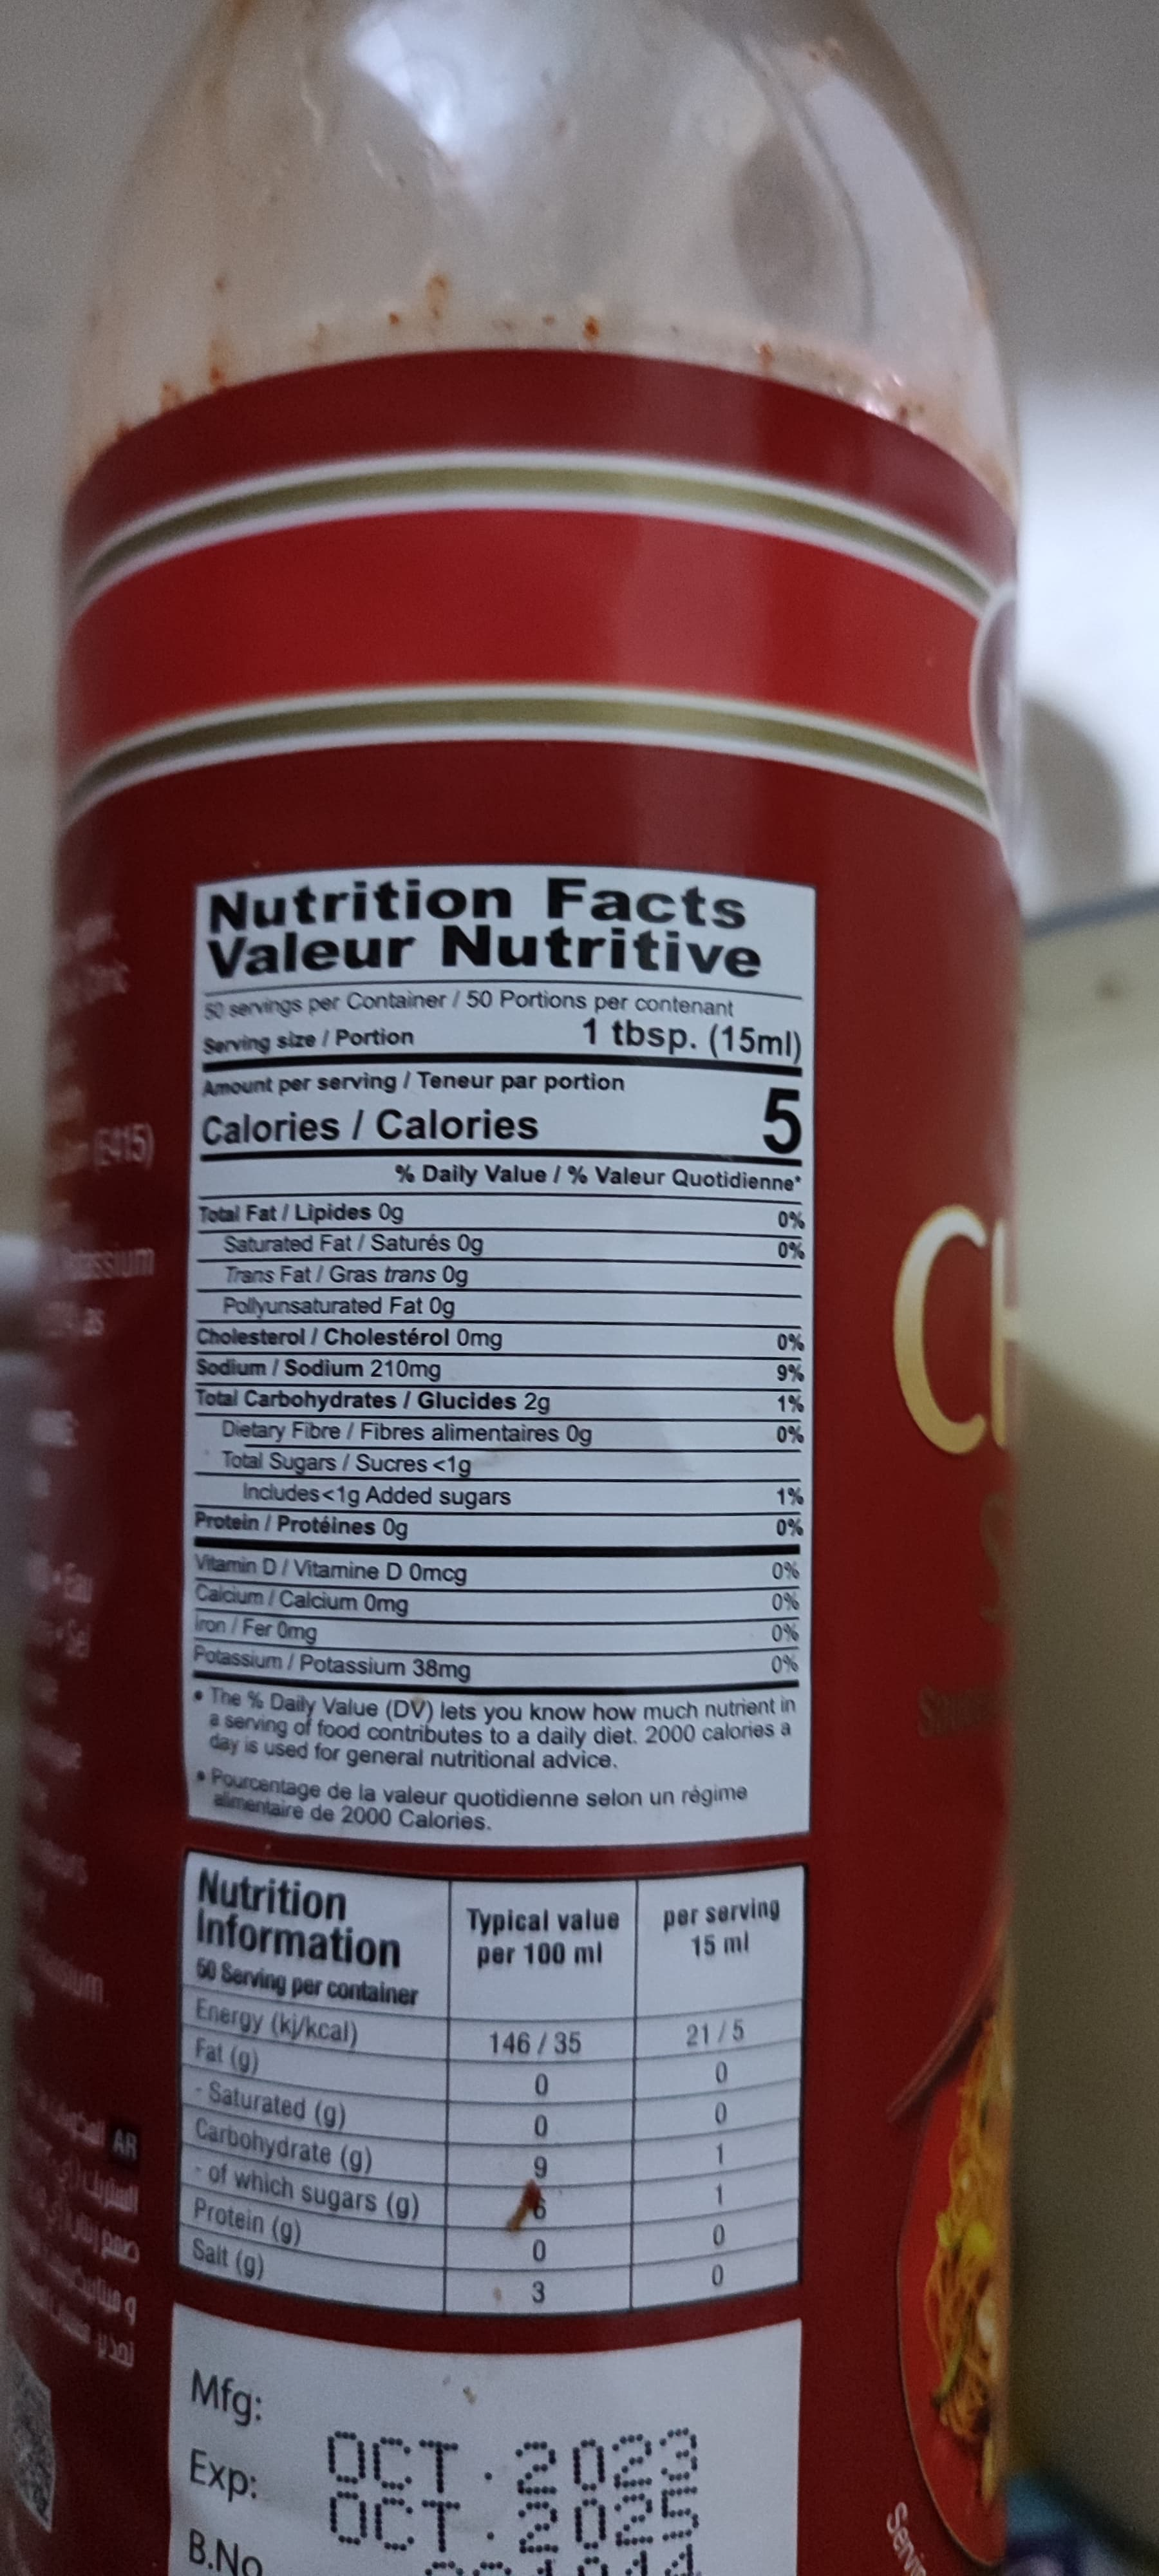table: (179, 861, 804, 2310)
